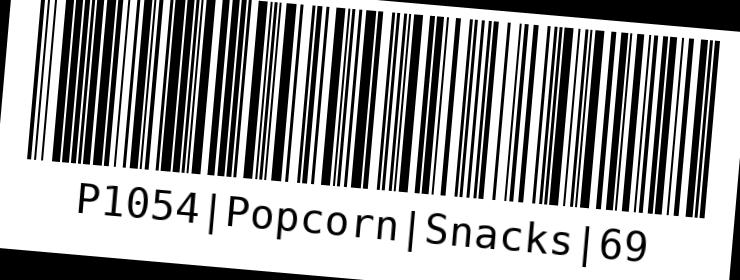milk: (12, 0, 735, 274)
